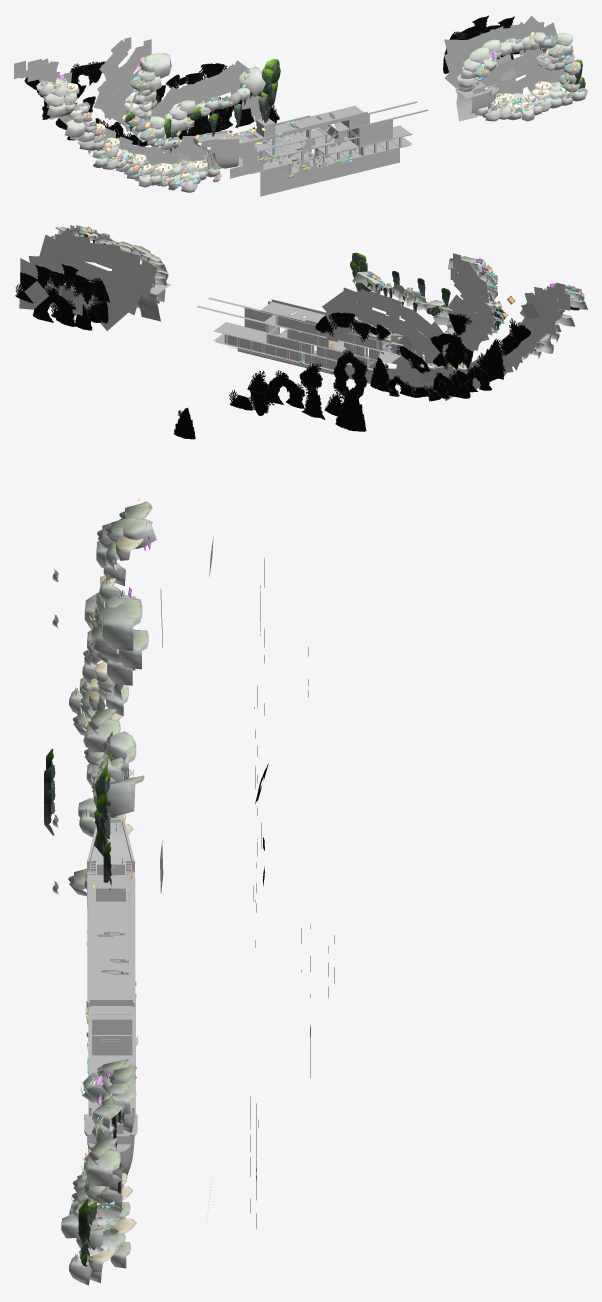
The model's file is Level1.fbx.
3 renders of one model, top to bottom at view 1: azimuth 30°, elevation 25°; view 2: azimuth 150°, elevation 25°; view 3: azimuth 270°, elevation 25°, orthographic. The views are drawn at different scales.
Parts seen in each view (by area): view 1: Level1_Active, Level1_Ship, Level1_Mid, Level1_Backgrounds, Level1_Far, Level1_Front; view 2: Level1_Far, Level1_Backgrounds, Level1_Ship, Level1_Mid, Level1_Active, Level1_Front; view 3: Level1_Active, Level1_Ship.
Boxes of the visible parts, <box> form: Level1_Active: <box>36,31,587,192</box>; Level1_Ship: <box>193,81,499,196</box>; Level1_Mid: <box>42,16,566,165</box>; Level1_Backgrounds: <box>14,22,544,154</box>; Level1_Far: <box>24,15,519,146</box>; Level1_Front: <box>83,97,266,186</box>; Level1_Far: <box>15,264,530,439</box>; Level1_Backgrounds: <box>19,234,570,400</box>; Level1_Ship: <box>137,280,426,383</box>; Level1_Mid: <box>28,228,564,381</box>; Level1_Active: <box>51,225,587,370</box>; Level1_Front: <box>392,271,564,358</box>; Level1_Active: <box>61,498,156,1285</box>; Level1_Ship: <box>84,817,137,1175</box>.
Size of the model in its own units: 30027 by 9085 by 12295.
